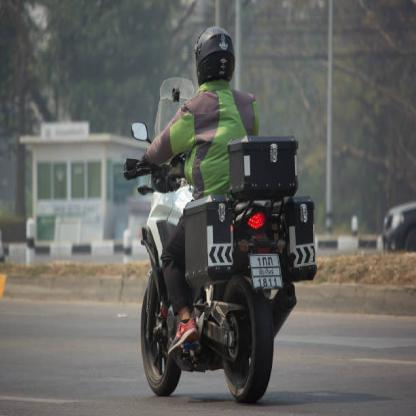Motorcycle: (117, 129, 306, 404)
